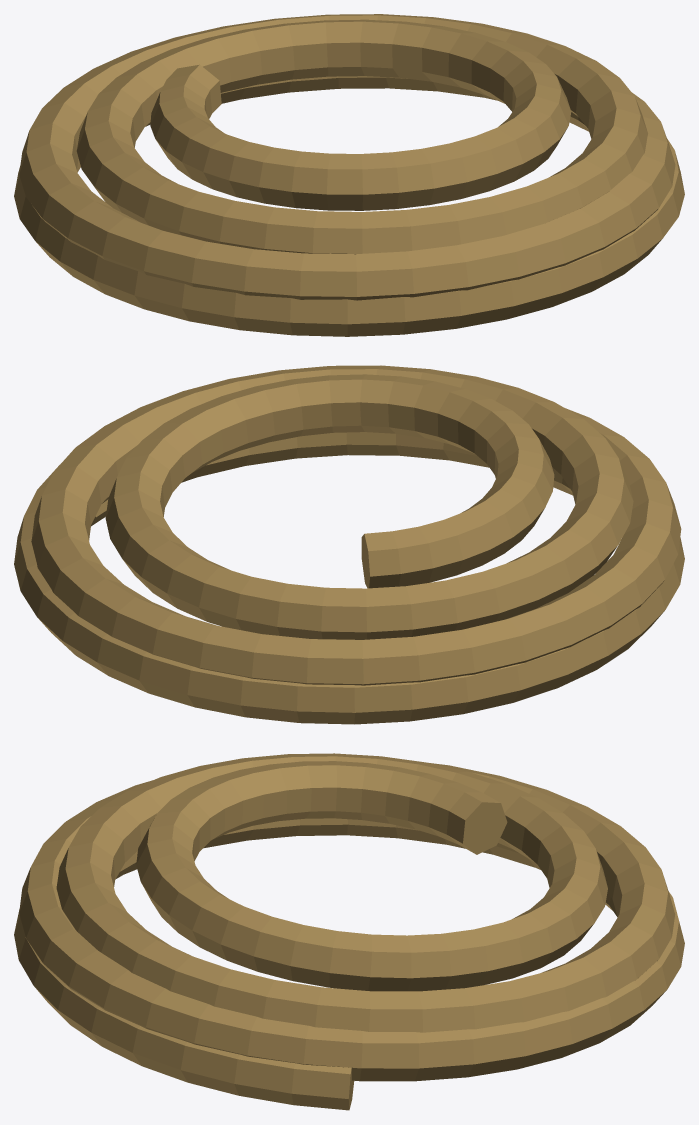
Rendered from rope-coil.glb.
3 renders of one model, top to bottom at view 1: azimuth 30°, elevation 25°; view 2: azimuth 150°, elevation 25°; view 3: azimuth 270°, elevation 25°, orthographic.
Parts seen in each view (by area): view 1: structure; view 2: structure; view 3: structure.
Part boxes in pixels (bbox=[...]): structure: bbox=[14, 14, 684, 336]; structure: bbox=[14, 365, 684, 724]; structure: bbox=[14, 753, 684, 1110].
Bounding box in the file's own units: 0.7391 × 0.1691 × 0.7294.
